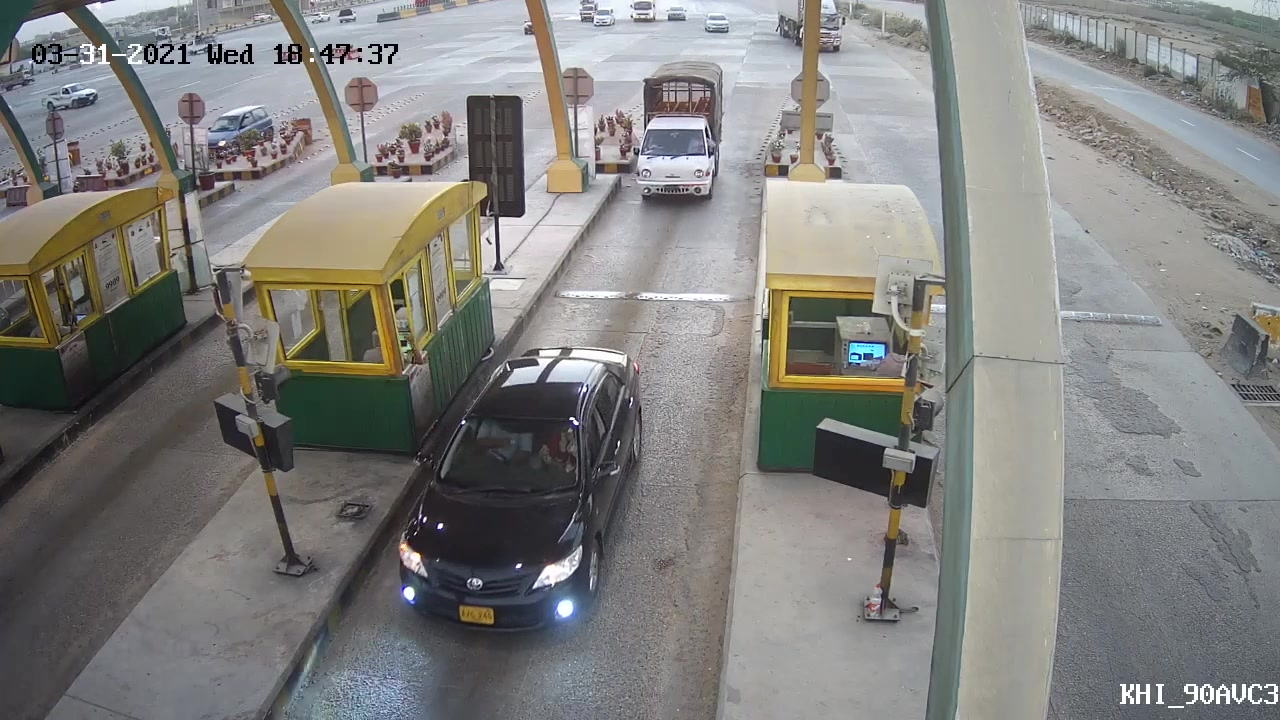F1: (378, 339, 652, 646)
F3: (628, 55, 735, 210)
